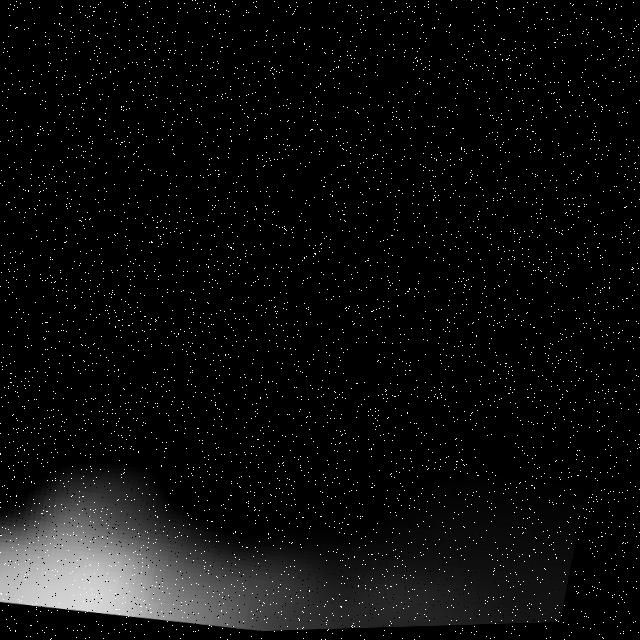person: (1, 428, 450, 640)
